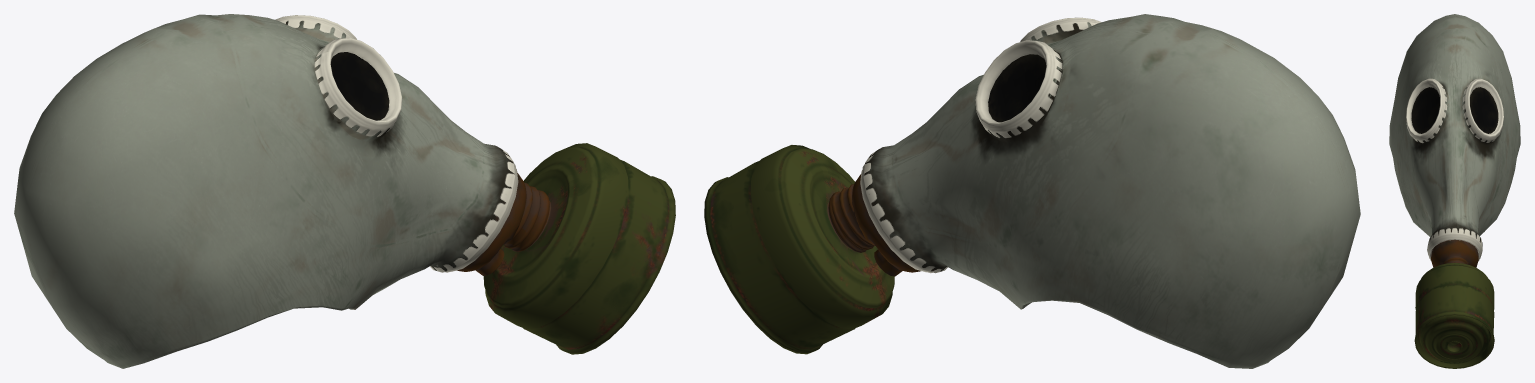
Rendered from render_icons.fbx.
3 renders of one model, left to right at view 1: azimuth 30°, elevation 25°; view 2: azimuth 150°, elevation 25°; view 3: azimuth 270°, elevation 25°, orthographic. The views are drawn at different scales.
Parts seen in each view (by area): view 1: MaskRetopo3; view 2: MaskRetopo3; view 3: MaskRetopo3.
Part boxes in pixels (box(x1,y1,x2,y2)): MaskRetopo3: box(14, 14, 675, 368); MaskRetopo3: box(704, 14, 1360, 368); MaskRetopo3: box(1389, 14, 1520, 368).
Size of the model in its own units: 278 by 174 by 86.05.
Materials: 1 (1 with a texture image).
